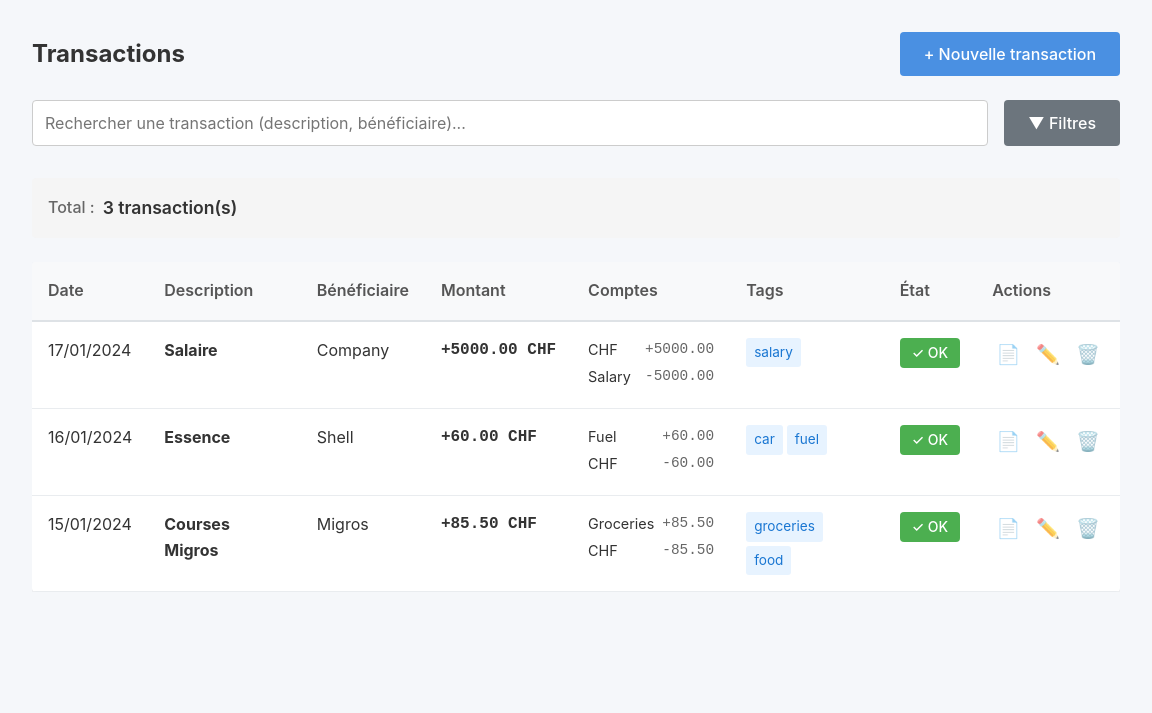
Test: TransactionList - Search & Filters › devrait toggler le panneau de filtres
Expected: the field labelled "Date de début" is not shown
# Afficher les filtres
Click the button "▼ Filtres" at (1062, 123), box [1004,100,1120,146]
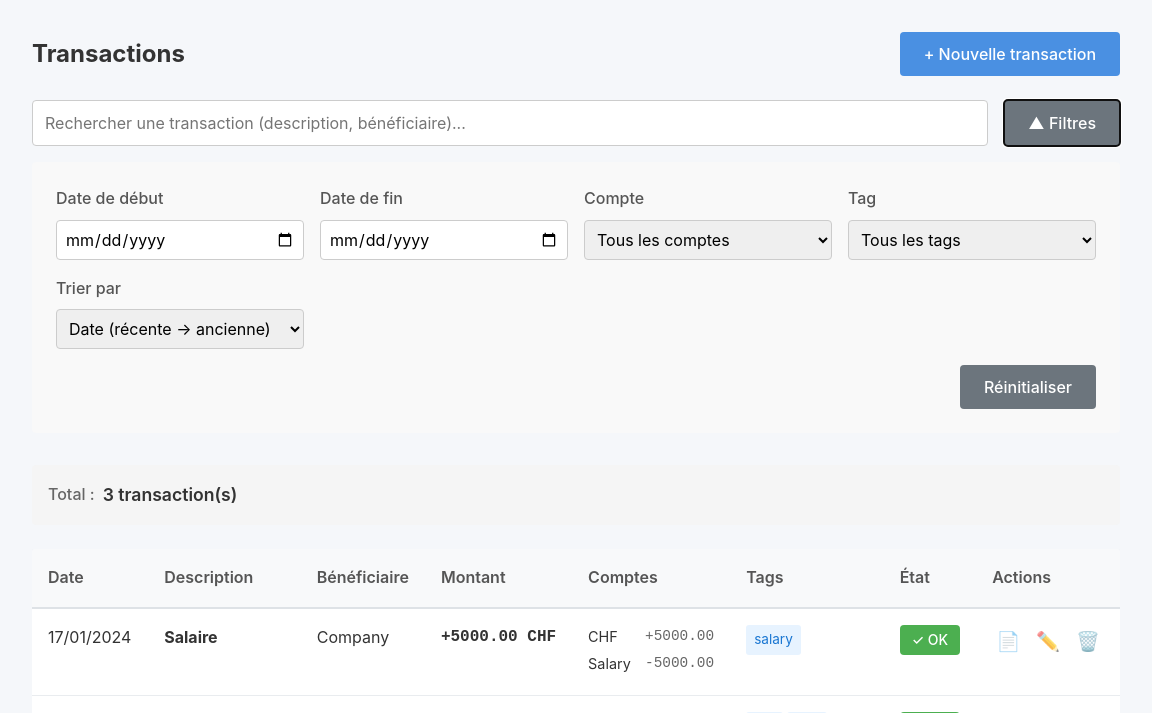
Expected: the date field labelled "Date de début" is shown, [56,220,304,260]
Expected: the date field labelled "Date de fin" is shown, [320,220,568,260]
Expected: the dropdown labelled "Compte" is shown, [584,220,832,260]
# Cacher les filtres
Click the button "▲ Filtres" at (1062, 123), box [1004,100,1120,146]
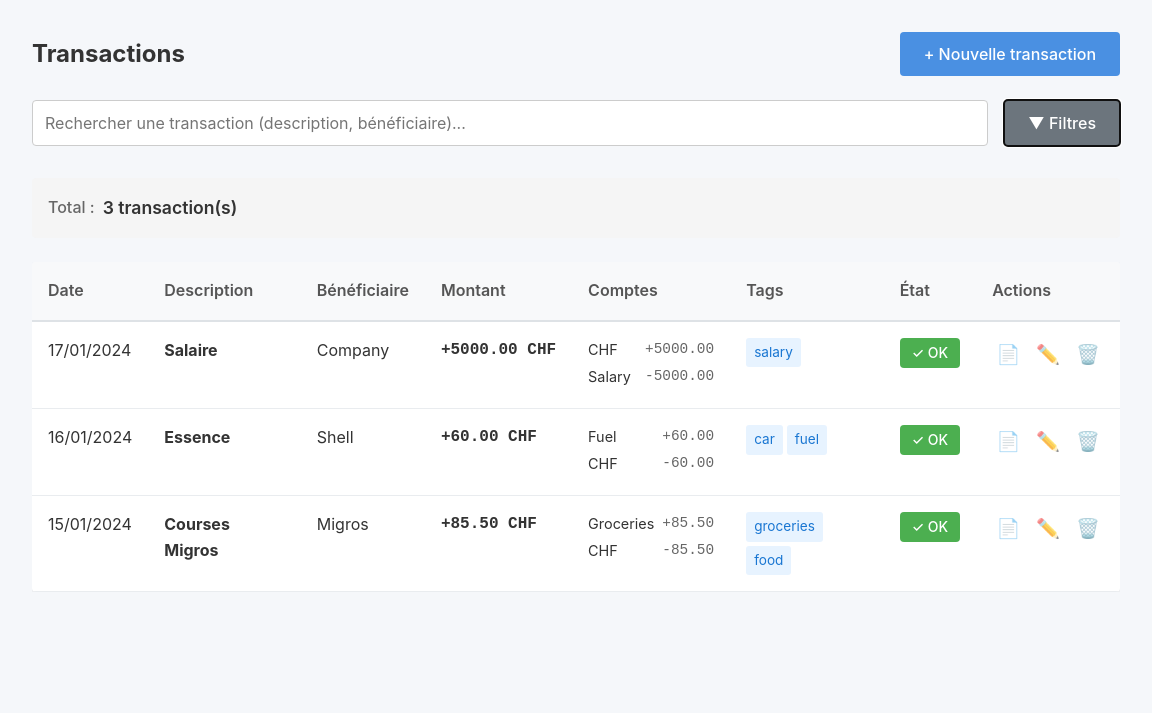
Expected: the label labelled "Date de début" is gone
